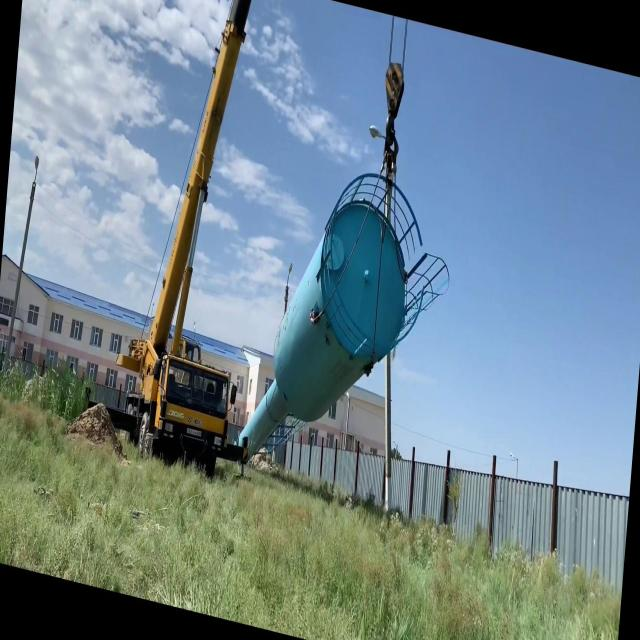crane: (109, 0, 291, 491)
